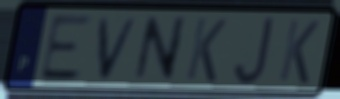E: (37, 13, 96, 83)
J: (231, 15, 277, 88)
K: (276, 16, 322, 87), (183, 15, 229, 85)
N: (130, 14, 190, 85)
V: (97, 15, 142, 82)
